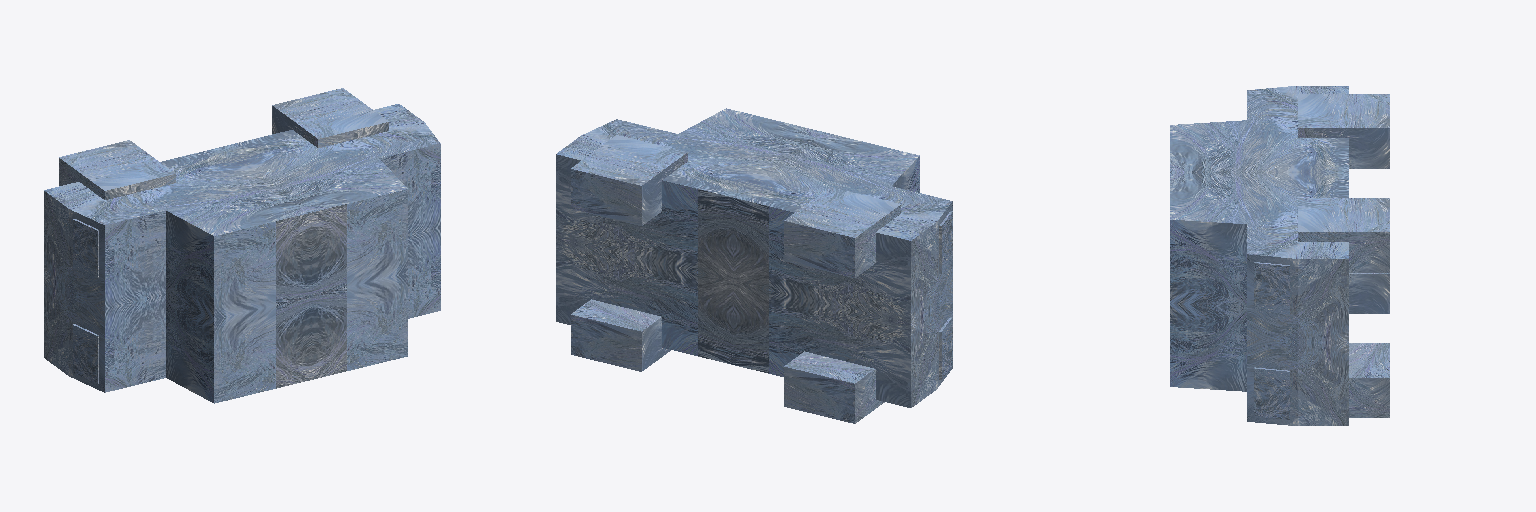
3 renders of one model, left to right at view 1: azimuth 30°, elevation 25°; view 2: azimuth 150°, elevation 25°; view 3: azimuth 270°, elevation 25°, orthographic.
Visible parts, largest first — view 1: Cube; view 2: Cube; view 3: Cube.
Part boxes in pixels (x1,y1,x2,y2): Cube: (44,88,440,403); Cube: (556,108,952,423); Cube: (1170,86,1389,425).
Size of the model in its own units: 8.03 by 4 by 4.3.
Materials: 1 (1 with a texture image).